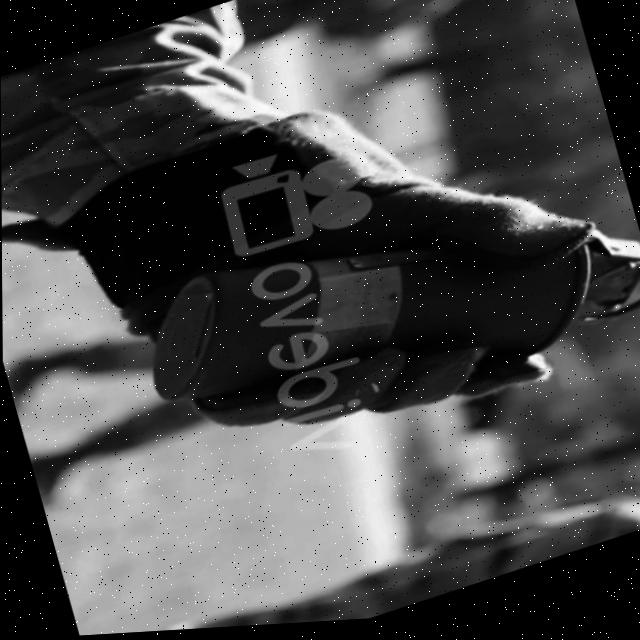grenade: (121, 138, 640, 494)
